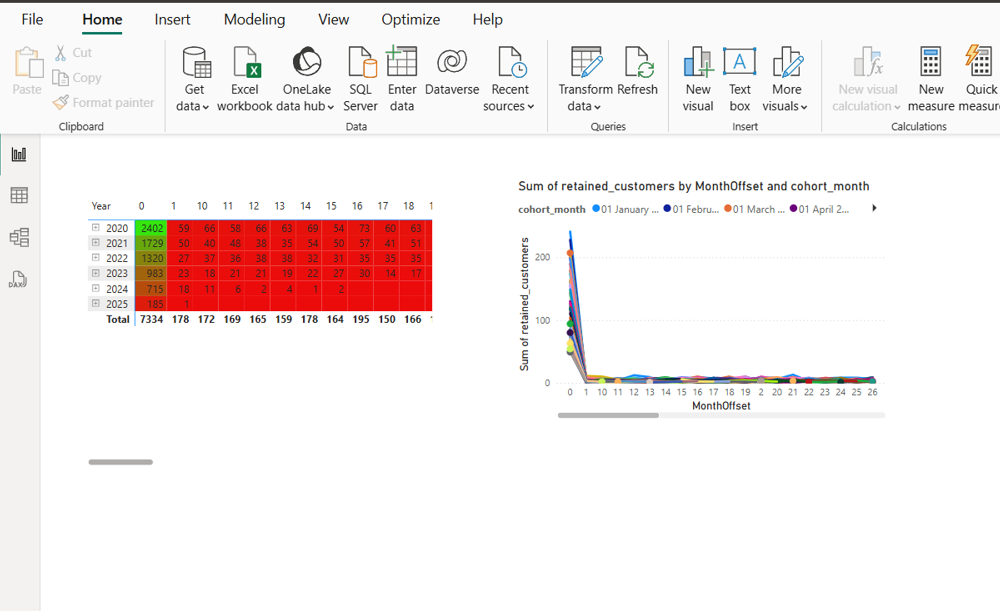

What the dashboard file says about the page in this screenshot:
{"tool":"powerbi","page":{"name":"Page 1","canvas":[1280,720],"ordinal":0},"visuals":[{"type":"pivotTable","fields":{"Rows":["customer_retention.cohort_month.Variation.Date Hierarchy.Year","customer_retention.cohort_month.Variation.Date Hierarchy.Quarter","customer_retention.cohort_month.Variation.Date Hierarchy.Month","customer_retention.cohort_month.Variation.Date Hierarchy.Day"],"Columns":["customer_retention.MonthOffset"],"Values":["Sum(customer_retention.retained_customers)"]},"box":[57.5,80,463.8,362.5],"z":0},{"type":"lineChart","fields":{"Category":["customer_retention.MonthOffset"],"Y":["Sum(customer_retention.retained_customers)"],"Series":["customer_retention.cohort_month"]},"box":[624.4,59,494,321.1],"z":1}]}

Visuals, with their boxes on the page's 1280x720 design canvas (x1, y1, x2, y2). These are canvas units, not pixel positions in the 1000x611 screenshot, which may show the page scaled, cropped or inside an application window:
pivotTable - customer_retention.cohort_month.Variation.Date Hierarchy.Year x customer_retention.cohort_month.Variation.Date Hierarchy.Quarter: [58,80,521,442]
lineChart - customer_retention.MonthOffset x Sum(customer_retention.retained_customers): [624,59,1118,380]
